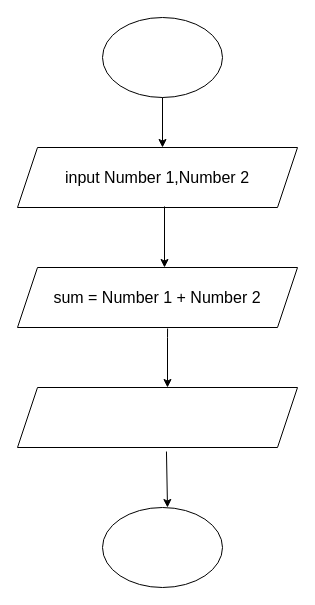
This 315x605 diagram has some shape labels left out. The shapes that lost their labels are listed below. From the top down, each one's box as (x1, y1, x2, y2) in pixels, then its label:
(102, 16, 222, 98): Start
(16, 386, 298, 448): Print sum
